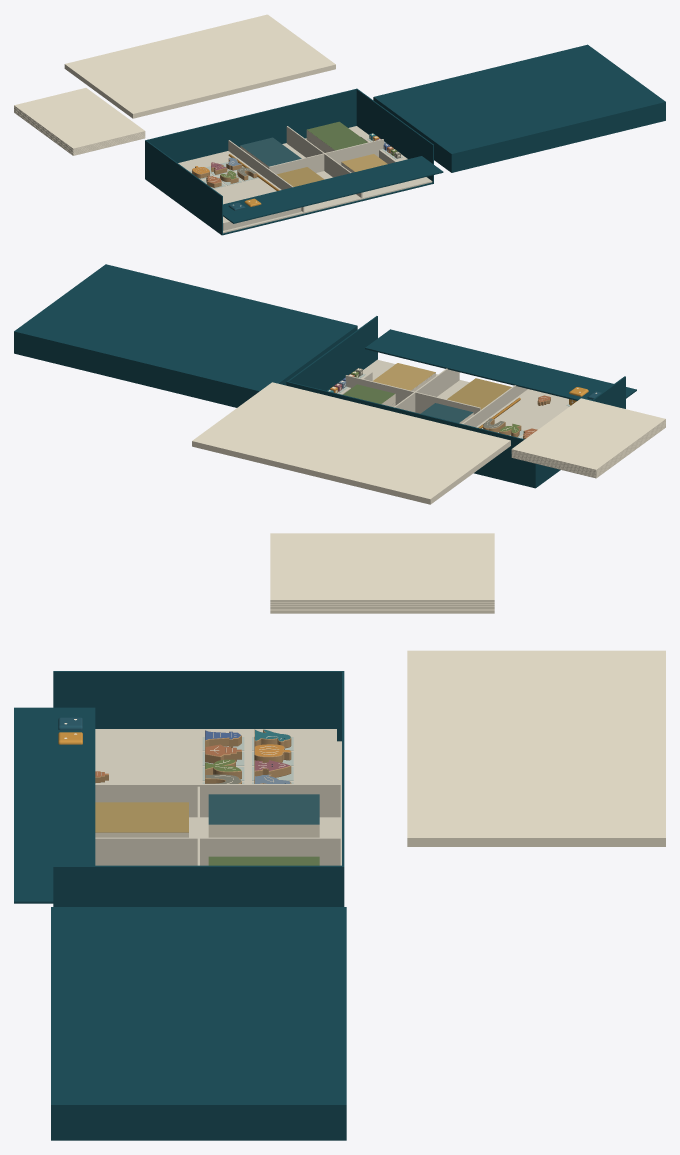
The picture shows the model from 3 angles, top to bottom: view 1: azimuth 30°, elevation 25°; view 2: azimuth 150°, elevation 25°; view 3: azimuth 270°, elevation 25°; orthographic projection. The views are drawn at different scales.
Parts seen in each view (by area): view 1: box-2; view 2: box-2; view 3: box-2.
Part boxes in pixels (x1,y1,x2,y2): box-2: (14, 14, 665, 235); box-2: (14, 264, 665, 504); box-2: (14, 533, 665, 1140).
Size of the model in its own units: 0.948 by 0.1138 by 0.529.
